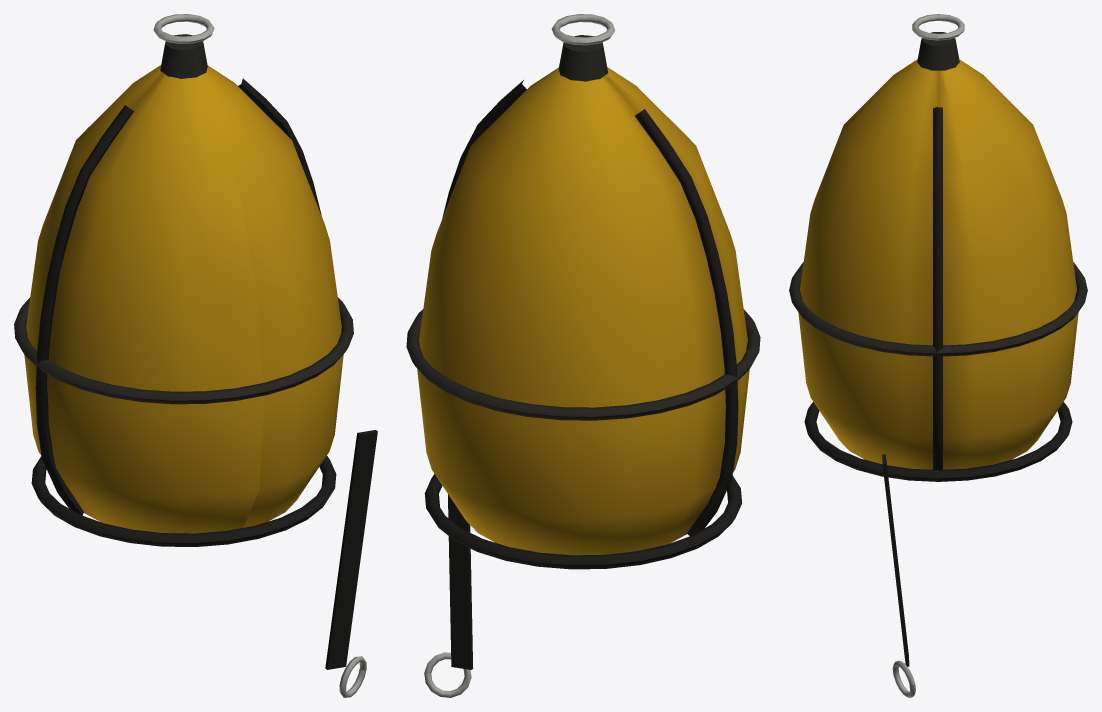
The model's file is lift-bag.glb.
3 renders of one model, left to right at view 1: azimuth 30°, elevation 25°; view 2: azimuth 150°, elevation 25°; view 3: azimuth 270°, elevation 25°, orthographic. The views are drawn at different scales.
Visible parts, largest first — view 1: lift-bag; view 2: lift-bag; view 3: lift-bag.
Boxes of the visible parts, x1,y1,x2,y2 form: lift-bag: (14, 14, 377, 697); lift-bag: (406, 14, 760, 697); lift-bag: (789, 14, 1087, 697).
Size of the model in its own units: 0.7468 by 1.57 by 0.7.
